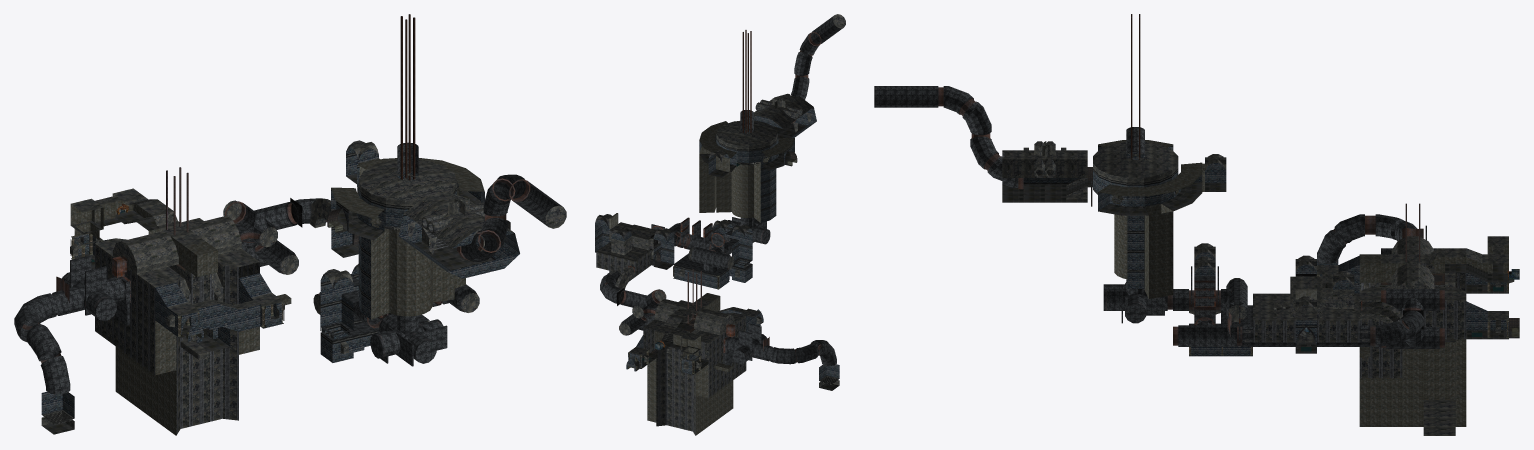
File: Adv11aCorridor.obj
3 renders of one model, left to right at view 1: azimuth 30°, elevation 25°; view 2: azimuth 150°, elevation 25°; view 3: azimuth 270°, elevation 25°, orthographic. The views are drawn at different scales.
Parts seen in each view (by area): view 1: Group15, Group10, Group19, Group21, Group9, Group22, Group20, Group11, Group1_1; view 2: Group15, Group10, Group19, Group21, Group9, Group22, Group20, Group11, Group1_1, Group7; view 3: Group15, Group10, Group19, Group21, Group20, Group9, Group11, Group22, Group1_1.
Part boxes in pixels (bbox=[...]): Group15: bbox=[41, 140, 566, 428]; Group10: bbox=[14, 142, 562, 394]; Group19: bbox=[70, 158, 484, 435]; Group21: bbox=[95, 224, 399, 435]; Group9: bbox=[124, 147, 519, 362]; Group22: bbox=[41, 149, 519, 418]; Group20: bbox=[42, 174, 492, 434]; Group11: bbox=[22, 168, 530, 392]; Group1_1: bbox=[400, 14, 415, 180]; Group15: bbox=[595, 14, 845, 387]; Group10: bbox=[600, 15, 843, 365]; Group19: bbox=[615, 121, 795, 435]; Group21: bbox=[596, 154, 767, 435]; Group9: bbox=[595, 107, 816, 341]; Group22: bbox=[595, 116, 839, 380]; Group20: bbox=[595, 123, 839, 390]; Group11: bbox=[605, 32, 835, 364]; Group1_1: bbox=[681, 30, 751, 237]; Group7: bbox=[628, 218, 735, 353]; Group15: bbox=[1002, 141, 1514, 435]; Group10: bbox=[874, 86, 1439, 356]; Group19: bbox=[1098, 140, 1508, 426]; Group21: bbox=[1093, 188, 1466, 377]; Group20: bbox=[1002, 179, 1519, 353]; Group9: bbox=[1002, 144, 1309, 356]; Group11: bbox=[938, 87, 1444, 347]; Group22: bbox=[1194, 163, 1508, 336]; Group1_1: bbox=[1131, 14, 1215, 310].
Size of the model in its own units: 4800 by 5680 by 7744.
38 materials, 38 textured.
